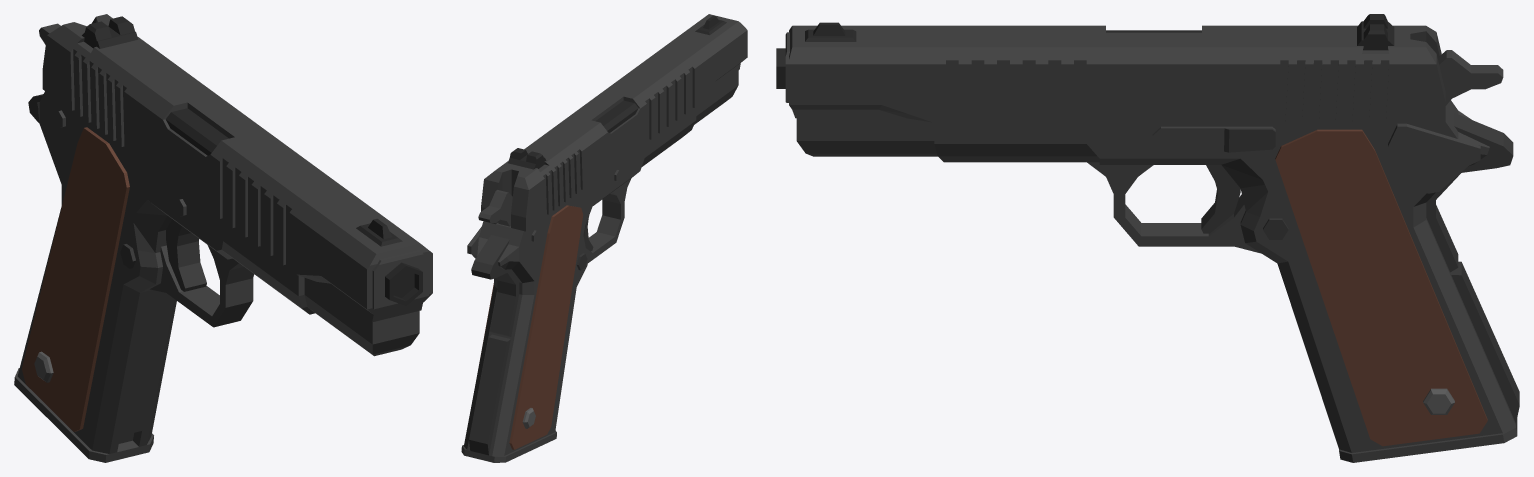
File: Pistol_E.fbx
3 renders of one model, left to right at view 1: azimuth 30°, elevation 25°; view 2: azimuth 150°, elevation 25°; view 3: azimuth 270°, elevation 25°, orthographic. The views are drawn at different scales.
Visible parts, largest first — view 1: Pistol_E_Receiver, Pistol_E_BarrelGuard, Pistol_E_Trigger, Pistol_E_Mag, Pistol_E_Barrel; view 2: Pistol_E_Receiver, Pistol_E_BarrelGuard, Pistol_E_Bolt, Pistol_E_Mag; view 3: Pistol_E_Receiver, Pistol_E_BarrelGuard, Pistol_E_Bolt, Pistol_E_Mag, Pistol_E_Trigger.
Boxes of the visible parts, left/top/right/bottom form: Pistol_E_Receiver: left=17, top=91, right=314, bottom=453; Pistol_E_BarrelGuard: left=42, top=14, right=432, bottom=356; Pistol_E_Trigger: left=166, top=219, right=206, bottom=291; Pistol_E_Mag: left=14, top=368, right=153, bottom=462; Pistol_E_Barrel: left=385, top=262, right=422, bottom=305; Pistol_E_Receiver: left=464, top=107, right=696, bottom=456; Pistol_E_BarrelGuard: left=481, top=14, right=747, bottom=231; Pistol_E_Bolt: left=478, top=190, right=512, bottom=226; Pistol_E_Mag: left=461, top=430, right=556, bottom=462; Pistol_E_Receiver: left=934, top=100, right=1519, bottom=452; Pistol_E_BarrelGuard: left=785, top=14, right=1445, bottom=156; Pistol_E_Bolt: left=1437, top=50, right=1503, bottom=105; Pistol_E_Mag: left=1339, top=418, right=1517, bottom=462; Pistol_E_Trigger: left=1201, top=165, right=1240, bottom=233.
Size of the model in its own units: 0.035 by 0.1837 by 0.2903.
